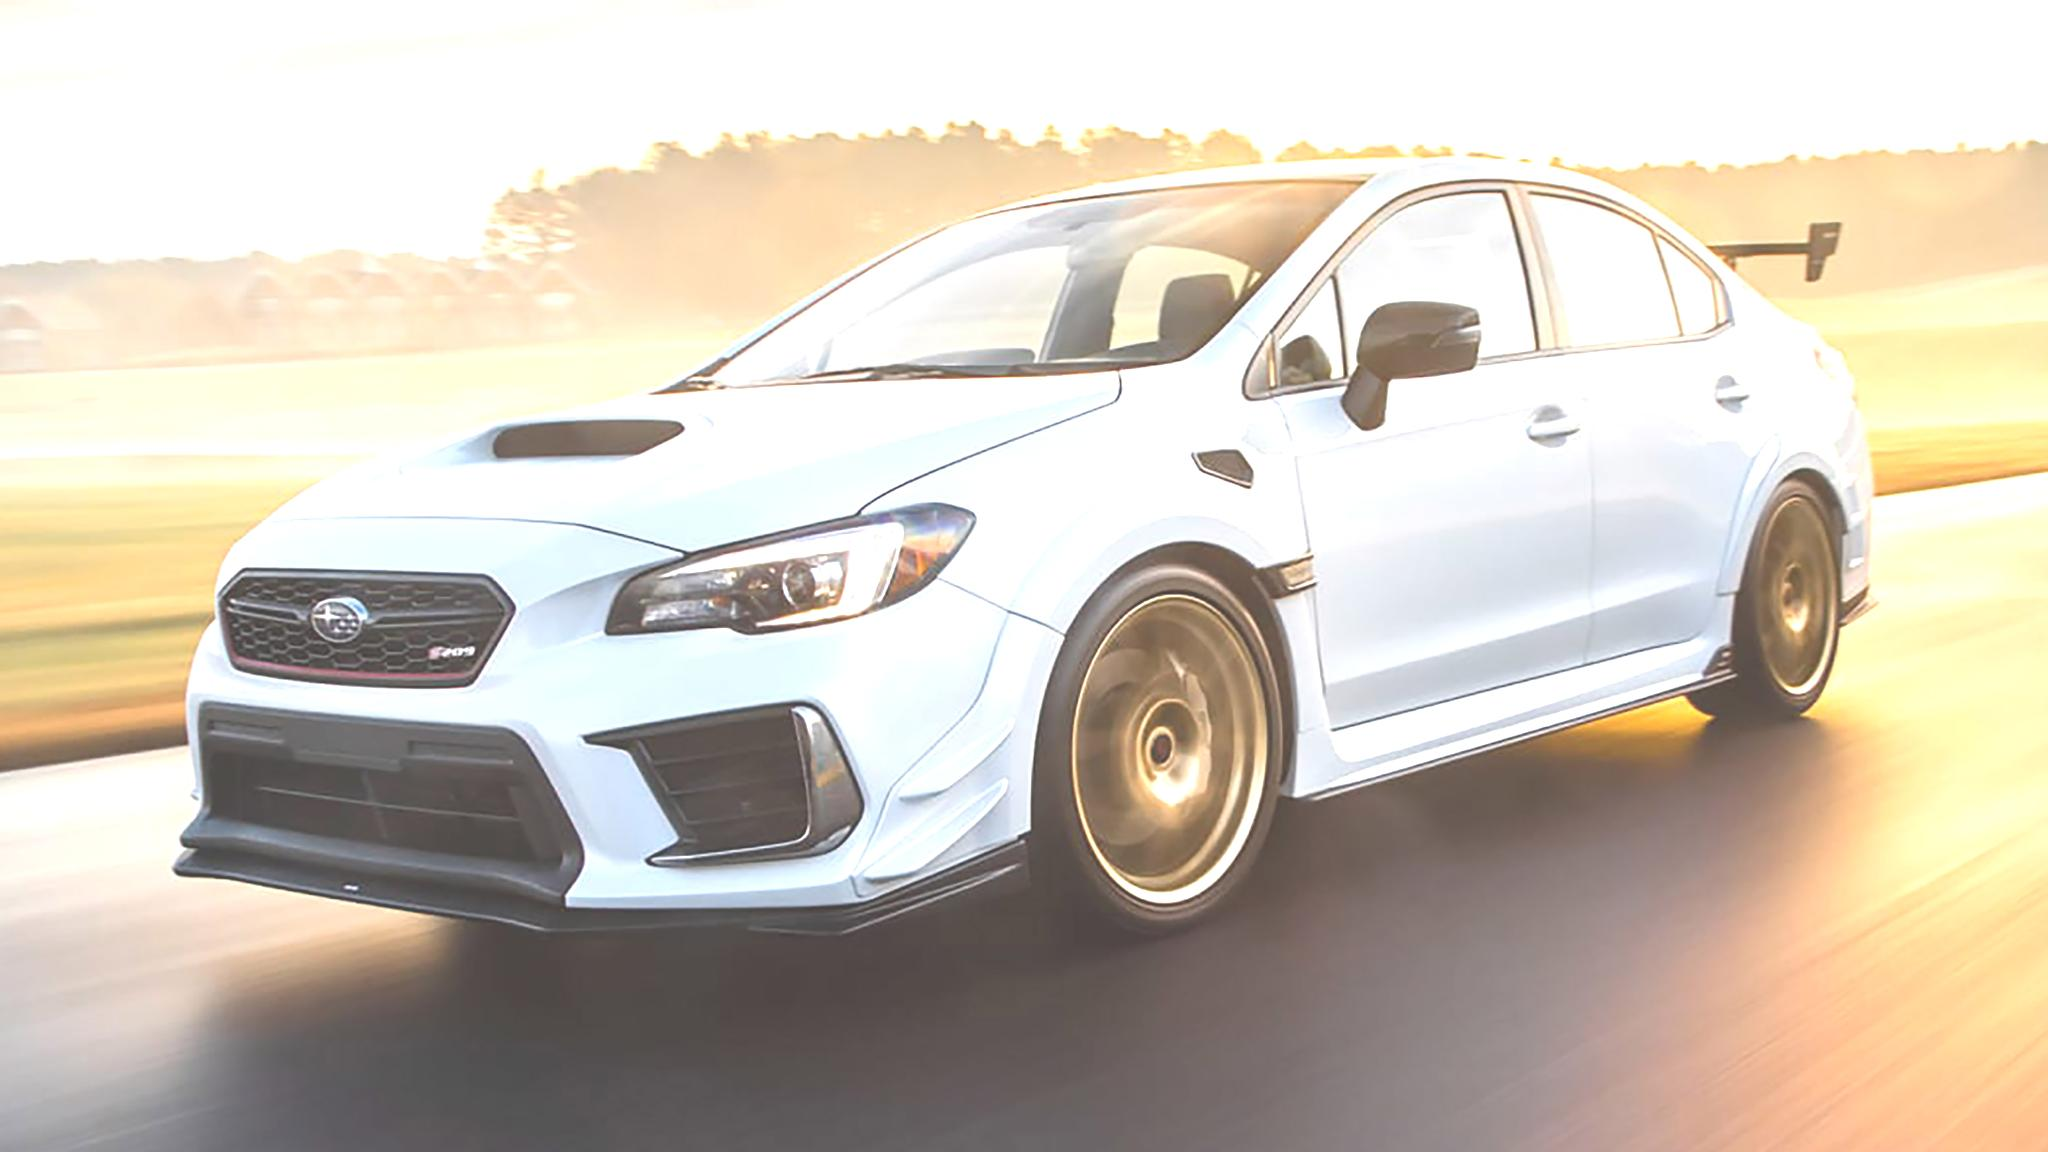subaru: (294, 587, 380, 648)
